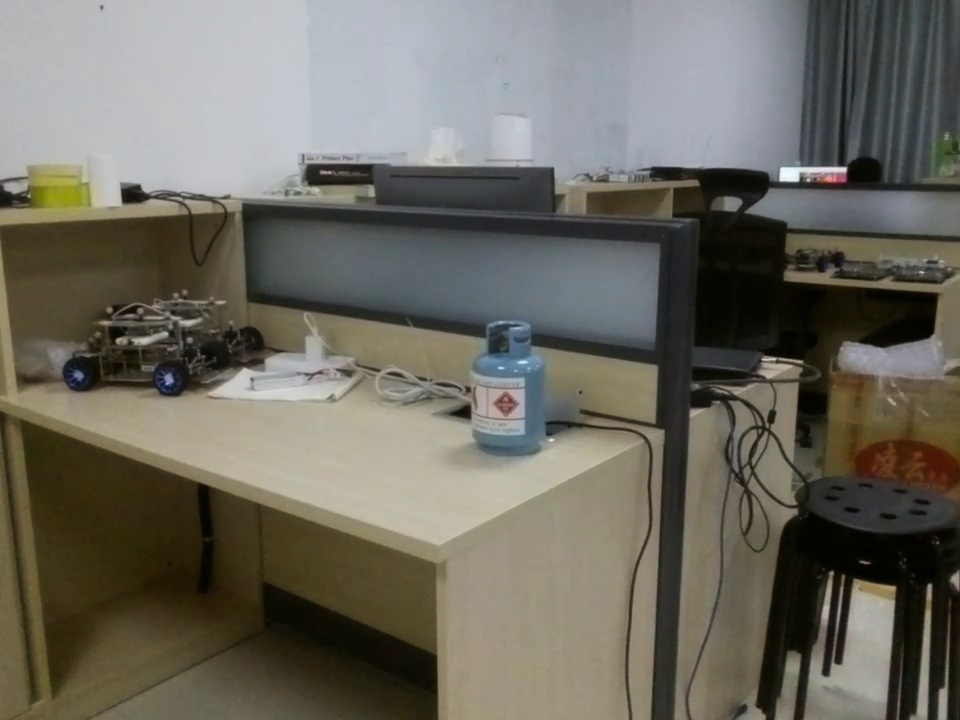gas tank: (457, 315, 559, 464)
